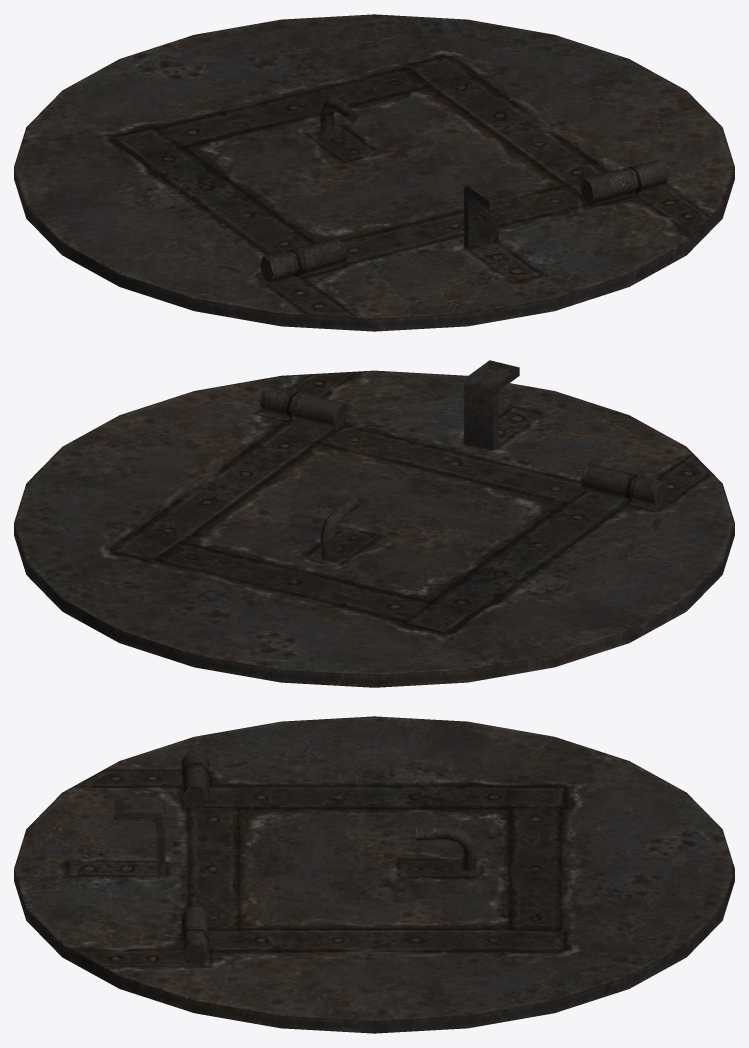
File: SM_WellLid.FBX
The picture shows the model from 3 angles, top to bottom: view 1: azimuth 30°, elevation 25°; view 2: azimuth 150°, elevation 25°; view 3: azimuth 270°, elevation 25°; orthographic projection.
Visible parts, largest first — view 1: SM_WellLid; view 2: SM_WellLid; view 3: SM_WellLid.
Boxes of the visible parts, bbox=[...] form: SM_WellLid: bbox=[14, 14, 734, 331]; SM_WellLid: bbox=[14, 360, 734, 687]; SM_WellLid: bbox=[14, 716, 734, 1033].
Size of what is drawn, in the model's own units: 167 by 167 by 19.57.
